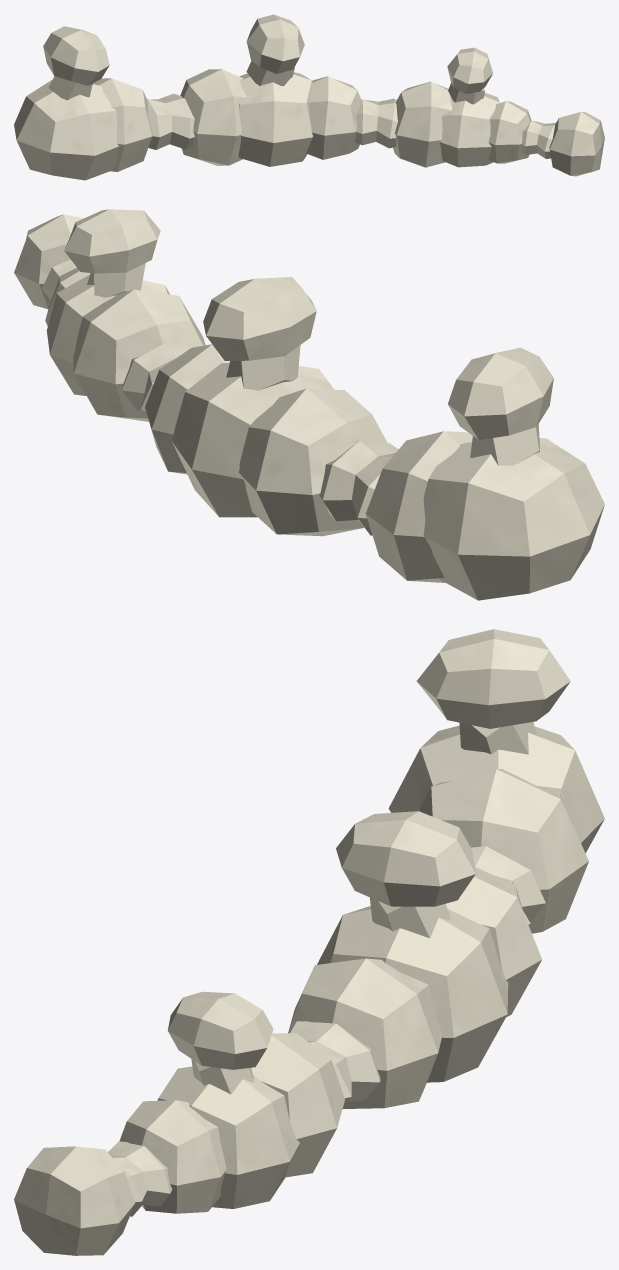
File: DragonTail.fbx
3 views of the same model, one above another, from view 1: azimuth 30°, elevation 25°; view 2: azimuth 150°, elevation 25°; view 3: azimuth 270°, elevation 25° (orthographic). The views are drawn at different scales.
Visible parts, largest first — view 1: TailPiece3; view 2: TailPiece3; view 3: TailPiece3.
Boxes of the visible parts, bbox=[...] form: TailPiece3: bbox=[14, 14, 604, 180]; TailPiece3: bbox=[14, 209, 604, 600]; TailPiece3: bbox=[14, 629, 604, 1255].
Bounding box in the file's own units: 2.26 × 0.726 × 1.35.
Materials: 1 (1 with a texture image).
